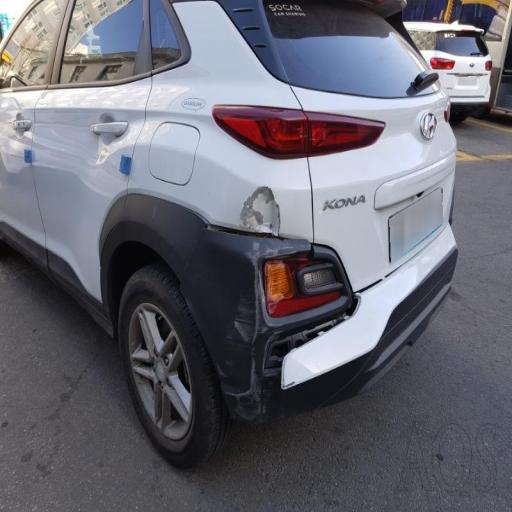broken: (246, 304, 402, 414)
dent: (51, 104, 147, 208)
scratch: (220, 153, 314, 246)
